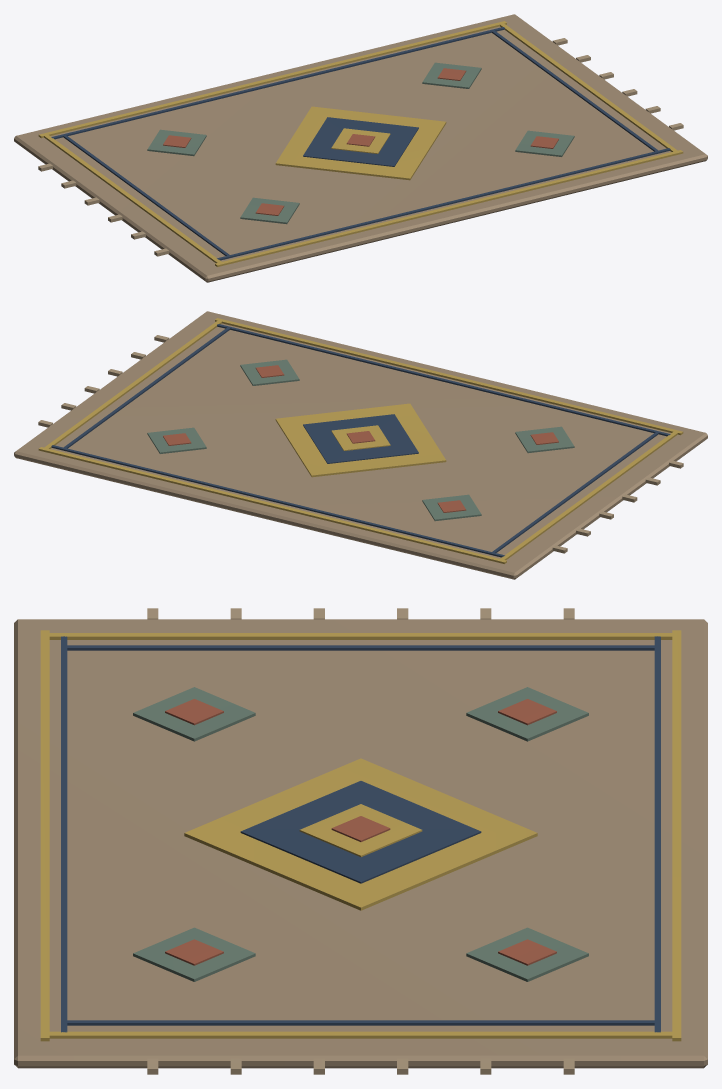
File: 0-20261016-1900-ev015-r02-collab-arearug.fbx
3 renders of one model, top to bottom at view 1: azimuth 30°, elevation 25°; view 2: azimuth 150°, elevation 25°; view 3: azimuth 270°, elevation 25°, orthographic. The views are drawn at different scales.
Parts seen in each view (by area): view 1: SW_Collab_AreaRug; view 2: SW_Collab_AreaRug; view 3: SW_Collab_AreaRug.
Part boxes in pixels (bbox=[...]): SW_Collab_AreaRug: bbox=[14, 14, 707, 282]; SW_Collab_AreaRug: bbox=[14, 311, 707, 579]; SW_Collab_AreaRug: bbox=[14, 608, 707, 1074].
Size of the model in its own units: 314 by 6.9 by 200.
